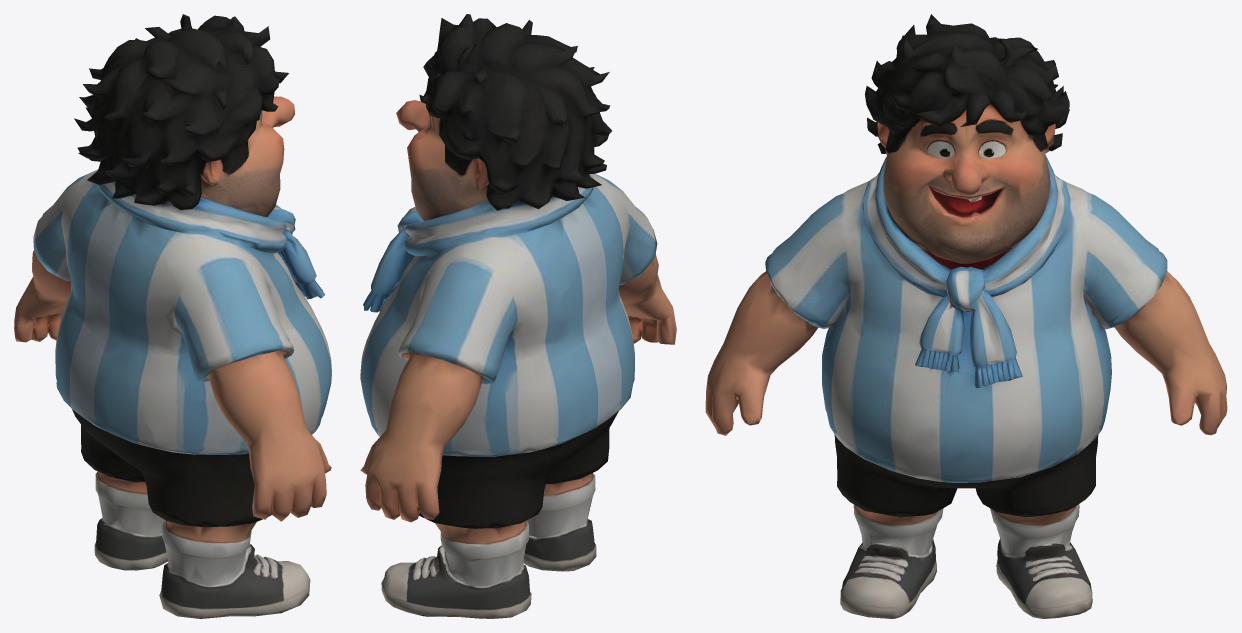
File: fan.glb
The picture shows the model from 3 angles, left to right: view 1: azimuth 30°, elevation 25°; view 2: azimuth 150°, elevation 25°; view 3: azimuth 270°, elevation 25°; orthographic projection. The views are drawn at different scales.
Parts seen in each view (by area): view 1: tripo_node_d6eaca04-5ac4-4973-b027-43df37d1c4f2; view 2: tripo_node_d6eaca04-5ac4-4973-b027-43df37d1c4f2; view 3: tripo_node_d6eaca04-5ac4-4973-b027-43df37d1c4f2.
Boxes of the visible parts, x1,y1,x2,y2 form: tripo_node_d6eaca04-5ac4-4973-b027-43df37d1c4f2: (14,14,331,618); tripo_node_d6eaca04-5ac4-4973-b027-43df37d1c4f2: (360,14,676,618); tripo_node_d6eaca04-5ac4-4973-b027-43df37d1c4f2: (705,14,1227,618).
Bounding box in the file's own units: 0.4388 × 1 × 0.8352.
1 material, 1 textured.
